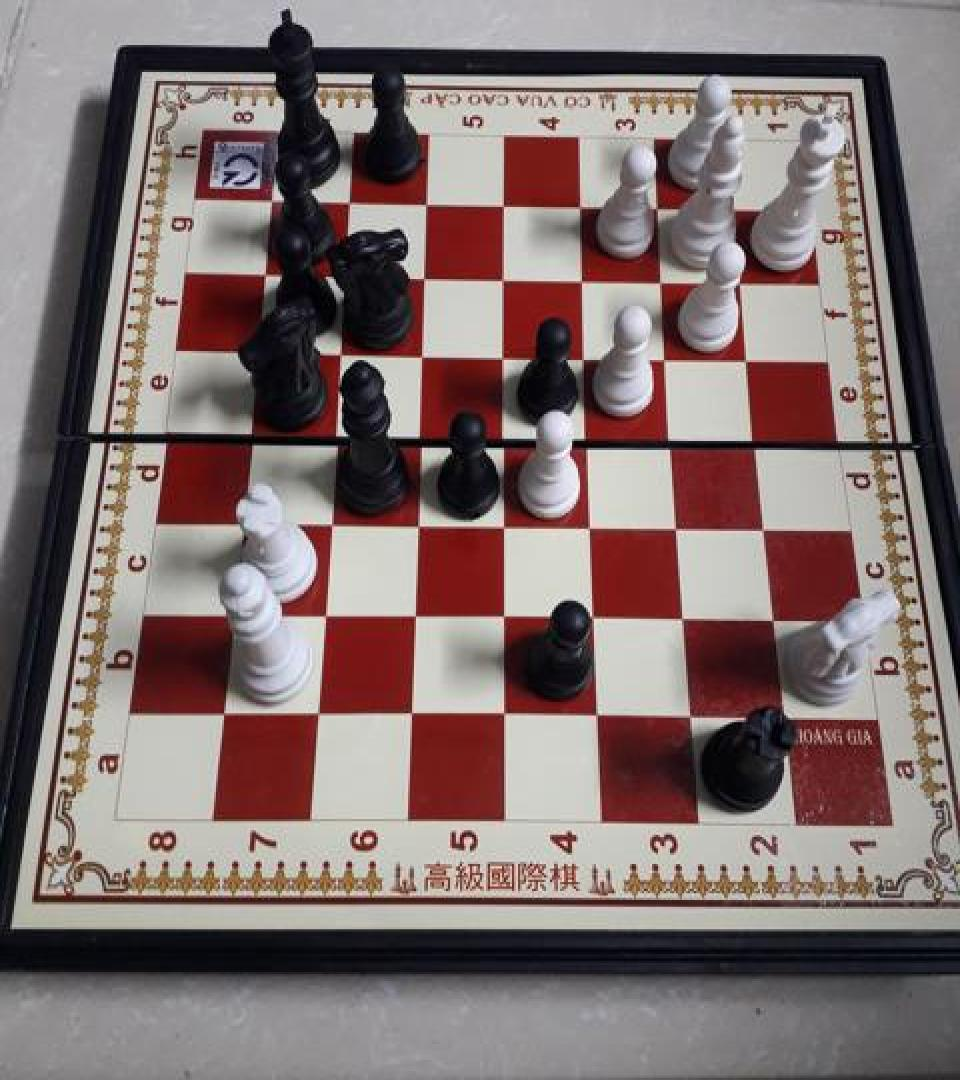xcorner: (396, 696, 428, 733), (489, 696, 521, 733), (582, 697, 614, 734), (674, 697, 706, 734), (766, 698, 798, 735), (210, 694, 242, 730), (303, 695, 335, 731), (219, 595, 251, 631), (310, 596, 342, 632), (400, 598, 432, 634), (490, 598, 522, 634), (579, 598, 611, 634), (669, 600, 701, 636), (758, 600, 790, 636), (228, 503, 260, 539), (316, 503, 348, 539), (403, 504, 435, 540), (490, 505, 522, 541), (577, 506, 609, 542), (664, 508, 696, 544), (750, 508, 782, 544), (237, 415, 269, 451), (322, 416, 354, 452), (406, 418, 438, 454), (491, 418, 523, 454), (575, 420, 607, 456), (659, 421, 691, 457), (742, 421, 774, 457), (245, 333, 277, 369), (327, 334, 359, 370), (409, 335, 441, 371), (491, 336, 523, 372), (573, 338, 605, 374), (654, 338, 686, 374), (735, 340, 767, 376), (253, 256, 285, 292), (332, 258, 364, 294), (412, 259, 444, 295), (492, 260, 524, 296), (571, 261, 603, 297), (650, 262, 682, 298), (729, 263, 761, 299), (260, 184, 292, 220), (337, 184, 369, 220), (492, 187, 524, 223), (569, 188, 601, 224), (646, 189, 678, 225), (722, 190, 754, 226), (415, 186, 447, 221)
